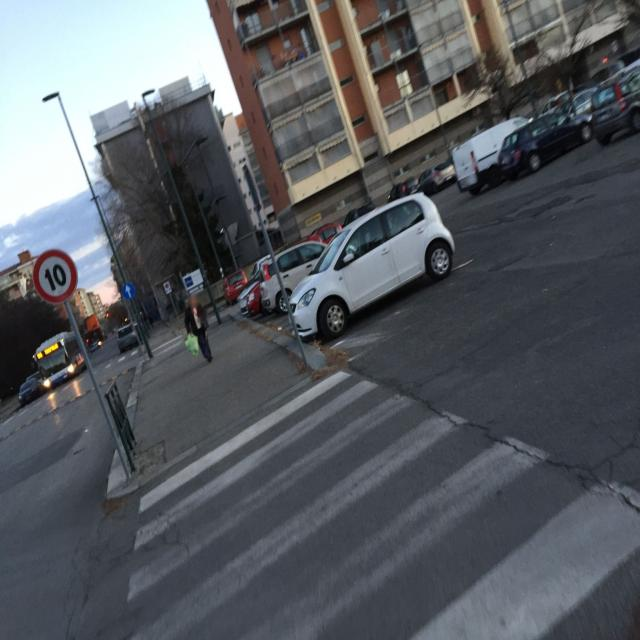car: (287, 192, 456, 345), (488, 84, 598, 190), (452, 114, 535, 195), (247, 238, 329, 318), (590, 62, 640, 146), (116, 320, 153, 355), (418, 161, 456, 195), (17, 371, 48, 409)
